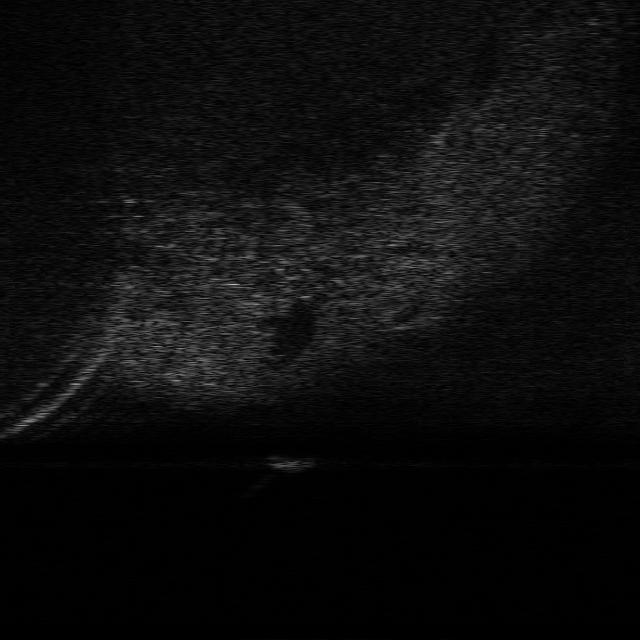cube: (268, 452, 318, 474)
